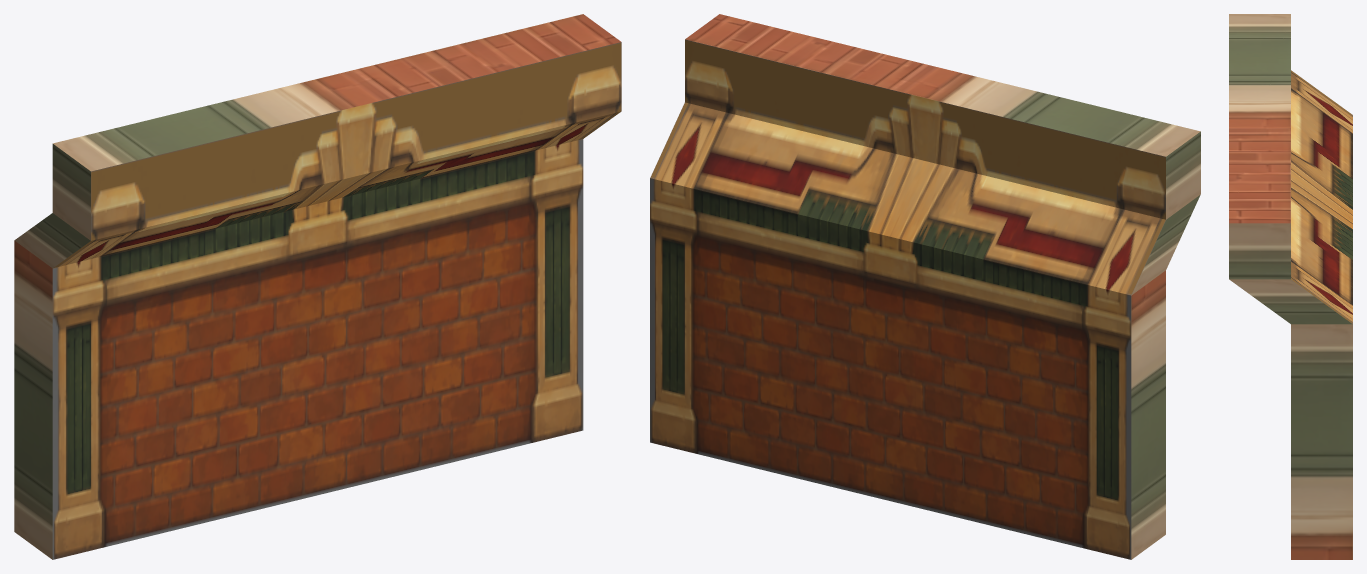
Rendered from BRK_Parapet2.fbx.
The picture shows the model from 3 angles, left to right: view 1: azimuth 30°, elevation 25°; view 2: azimuth 150°, elevation 25°; view 3: azimuth 270°, elevation 25°; orthographic projection. The views are drawn at different scales.
Visible parts, largest first — view 1: BRK_Parapet2; view 2: BRK_Parapet2; view 3: BRK_Parapet2.
Part boxes in pixels (x1,y1,x2,y2): BRK_Parapet2: [14, 14, 621, 559]; BRK_Parapet2: [650, 14, 1200, 559]; BRK_Parapet2: [1229, 14, 1352, 559].
Size of the model in its own units: 2 by 0.5 by 1.5.
Materials: 1 (1 with a texture image).
